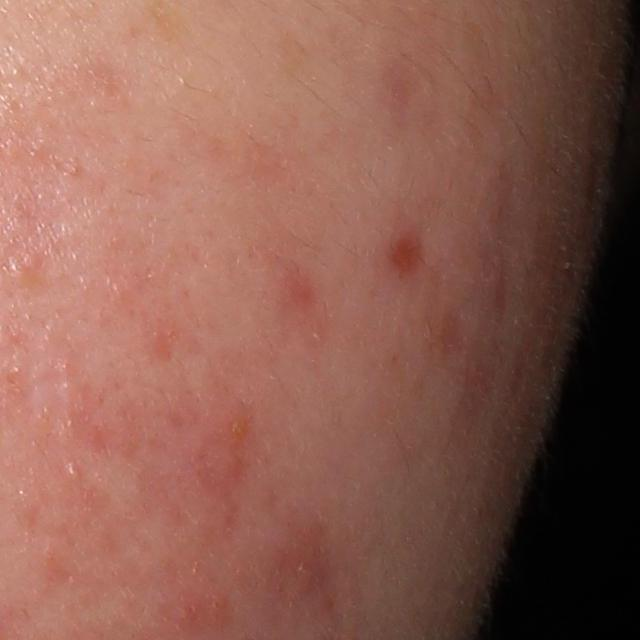comedo: (16, 250, 43, 274), (62, 461, 85, 486)
